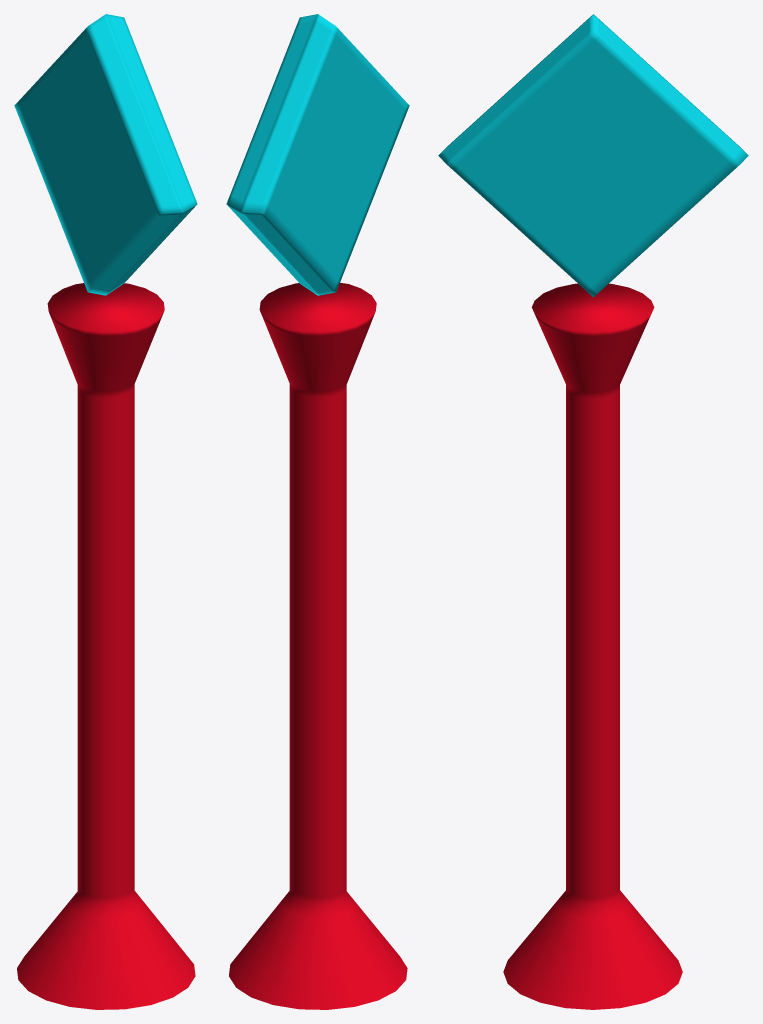
The model's file is Placa.fbx.
3 renders of one model, left to right at view 1: azimuth 30°, elevation 25°; view 2: azimuth 150°, elevation 25°; view 3: azimuth 270°, elevation 25°, orthographic.
Parts seen in each view (by area): view 1: Circle.001; view 2: Circle.001; view 3: Circle.001.
Part boxes in pixels (x1=…): Circle.001: x1=14, y1=14, x2=197, y2=1009; Circle.001: x1=226, y1=14, x2=409, y2=1009; Circle.001: x1=438, y1=14, x2=748, y2=1009.
Size of the model in its own units: 13.28 by 78.09 by 22.97.
